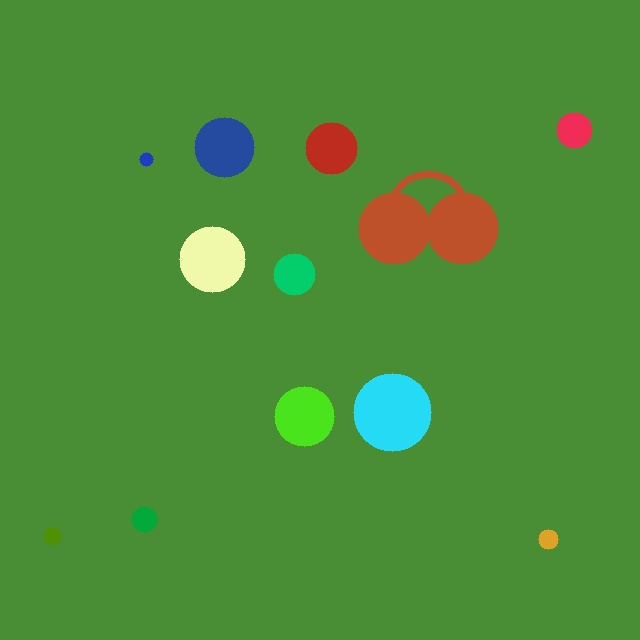over_ear: (354, 167, 502, 268)
